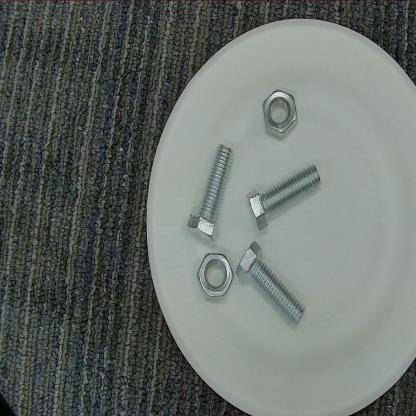FOD: (235, 239, 310, 330), (182, 140, 237, 245), (247, 162, 323, 232), (191, 249, 234, 307), (261, 84, 300, 146)
